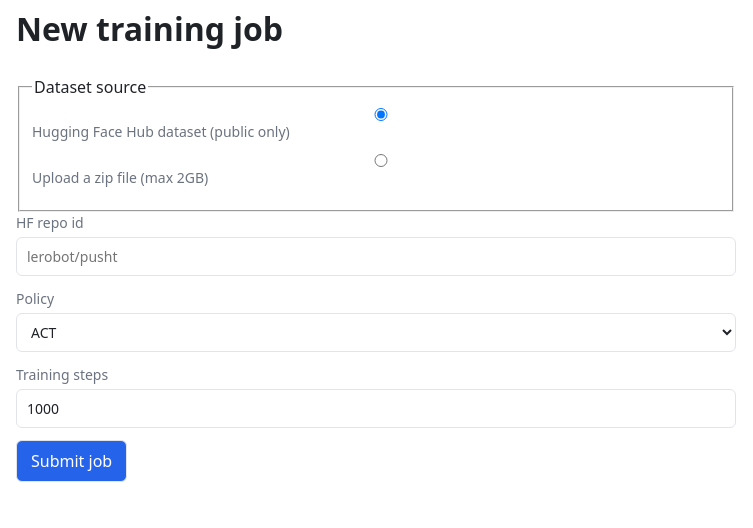
Test: NewJobPage › shows an inline error and does not navigate when the backend rejects the dataset
The width and height of the screenshot is (753, 528).
Type "org/missing" into the field labelled "HF repo id" at (376, 257), box [16,238,736,276]
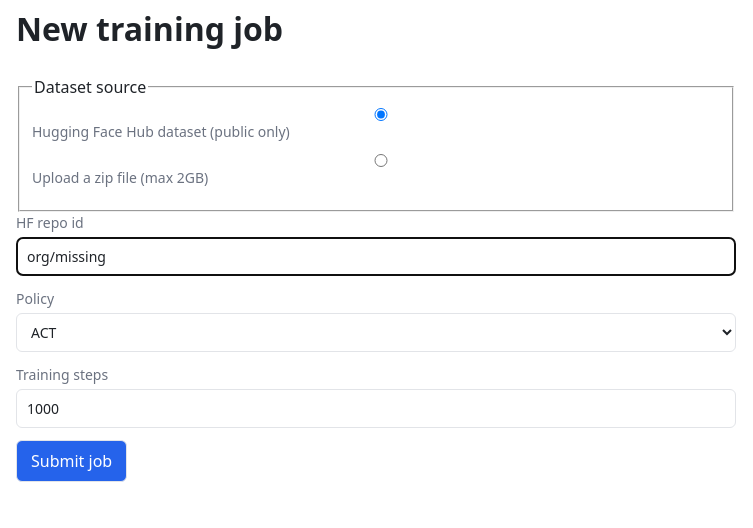
Click the button "Submit job" at (72, 462), box [16,440,127,482]
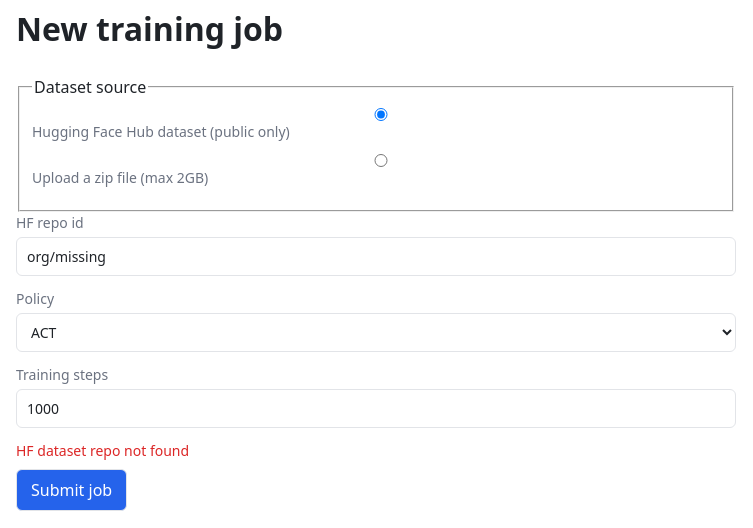
Now the text "HF dataset repo not found" is shown, box [16,442,189,460]
